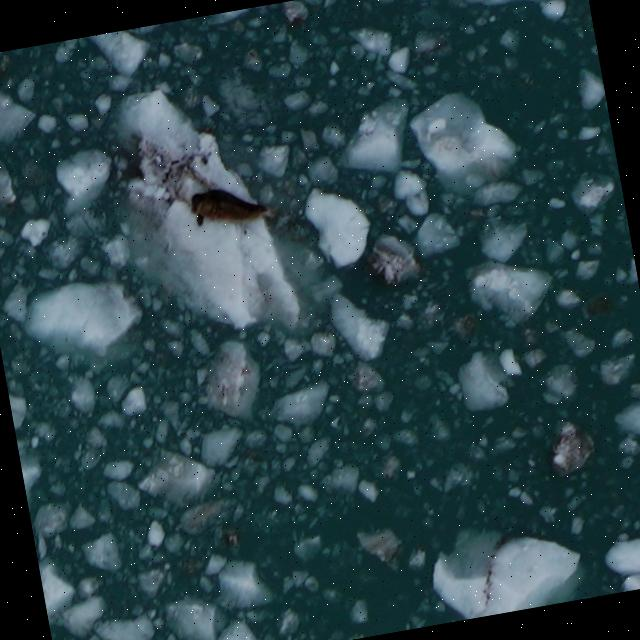seal: (186, 176, 281, 237)
